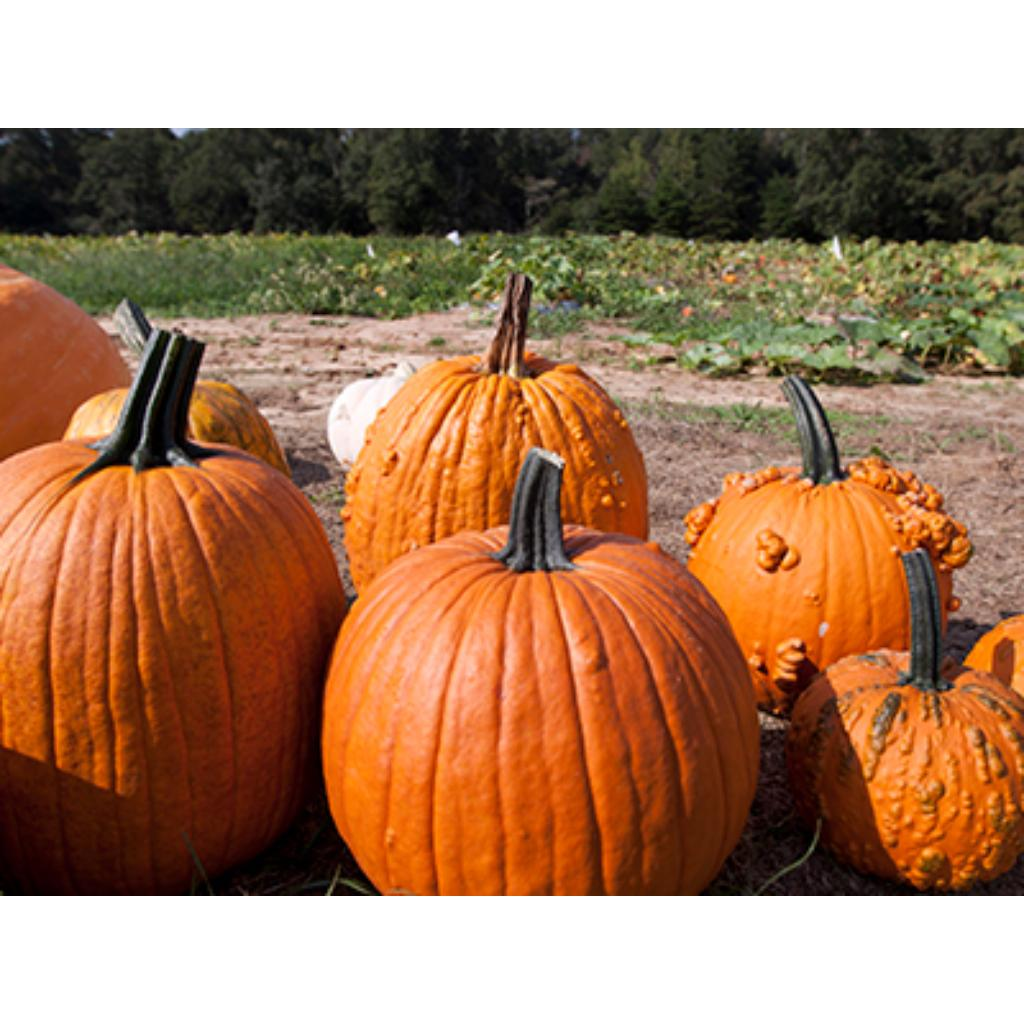pumpkin: (0, 330, 346, 894), (322, 448, 758, 894), (342, 275, 648, 591), (684, 378, 972, 711), (786, 548, 1024, 890), (1, 266, 130, 459), (194, 382, 290, 473), (964, 614, 1024, 695), (62, 389, 128, 439), (112, 298, 152, 355)
